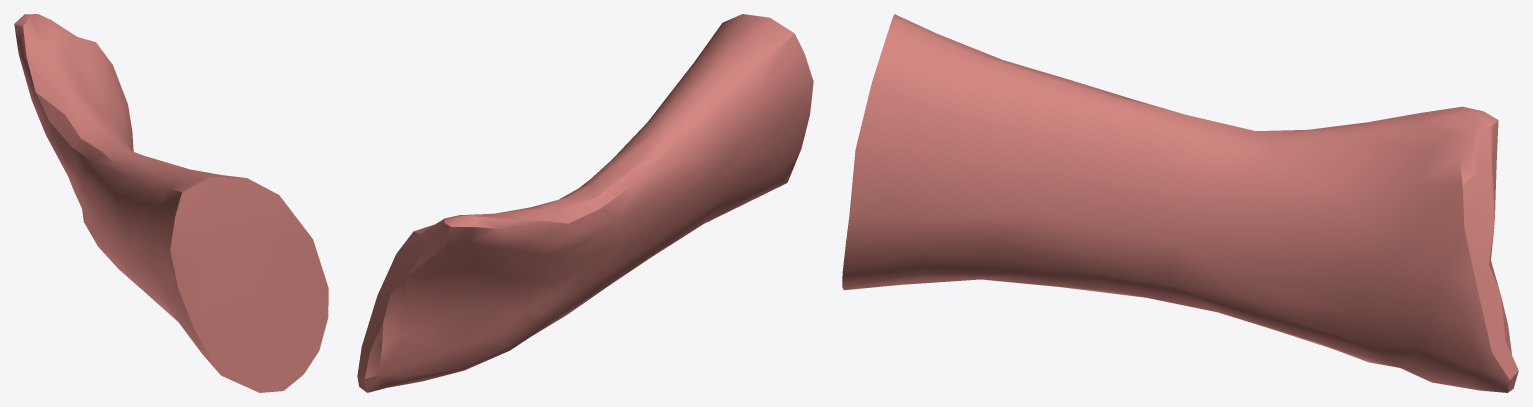
File: fma54129-n_mm2208m.glb
3 views of the same model, side by side, from view 1: azimuth 30°, elevation 25°; view 2: azimuth 150°, elevation 25°; view 3: azimuth 270°, elevation 25° (orthographic). The views are drawn at different scales.
Visible parts, largest first — view 1: FMA54129-N_MM2208M; view 2: FMA54129-N_MM2208M; view 3: FMA54129-N_MM2208M.
Boxes of the visible parts, box(x1,y1,x2,y2) form: FMA54129-N_MM2208M: box(14, 14, 328, 392); FMA54129-N_MM2208M: box(357, 14, 813, 392); FMA54129-N_MM2208M: box(842, 14, 1518, 392).
Size of the model in its own units: 0.00339 by 0.00367 by 0.00786.
